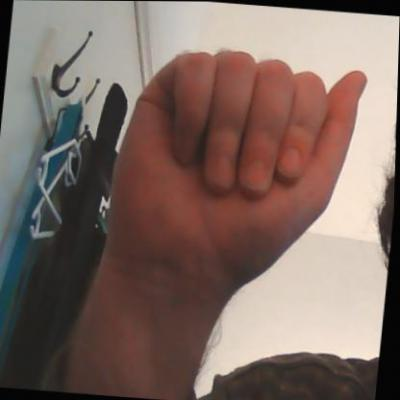hand: (103, 41, 371, 294)
